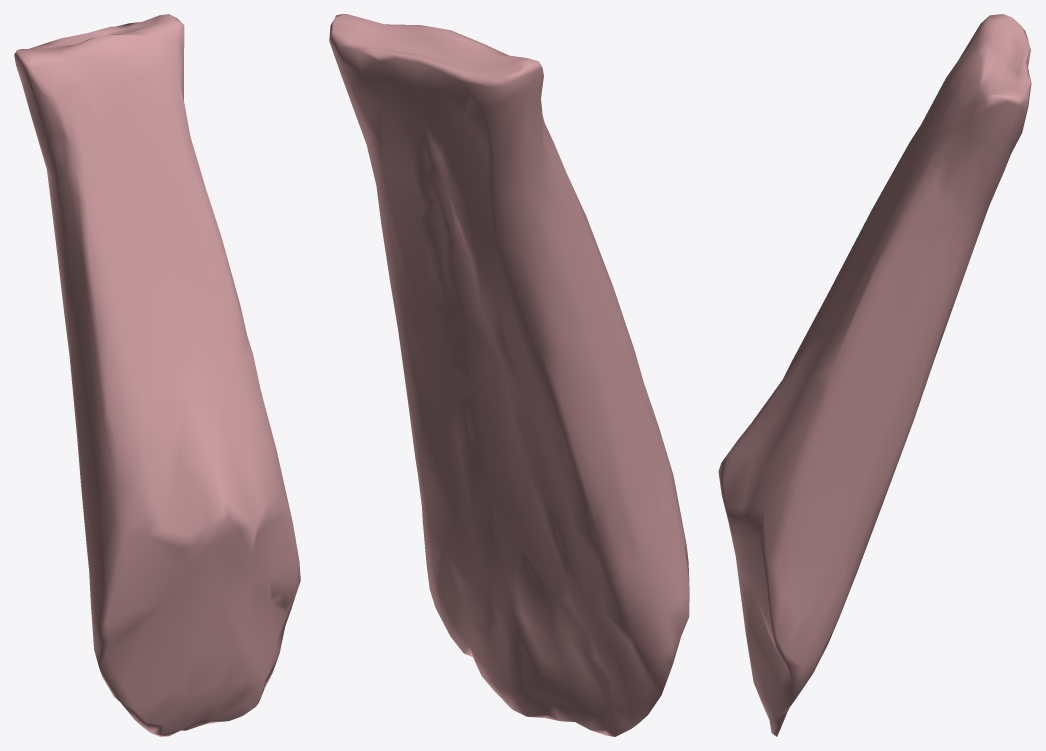
File: fma55230_mm1174.glb
3 renders of one model, left to right at view 1: azimuth 30°, elevation 25°; view 2: azimuth 150°, elevation 25°; view 3: azimuth 270°, elevation 25°, orthographic. The views are drawn at different scales.
Visible parts, largest first — view 1: FMA55230_MM1174; view 2: FMA55230_MM1174; view 3: FMA55230_MM1174.
Boxes of the visible parts, <box> form: FMA55230_MM1174: <box>14,14,300,736</box>; FMA55230_MM1174: <box>329,14,689,736</box>; FMA55230_MM1174: <box>718,14,1031,736</box>.
Bounding box in the file's own units: 0.00353 × 0.0105 × 0.00447.
